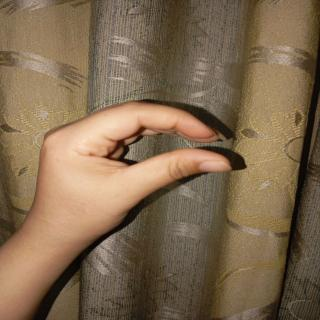JEEM: (26, 95, 238, 257)
